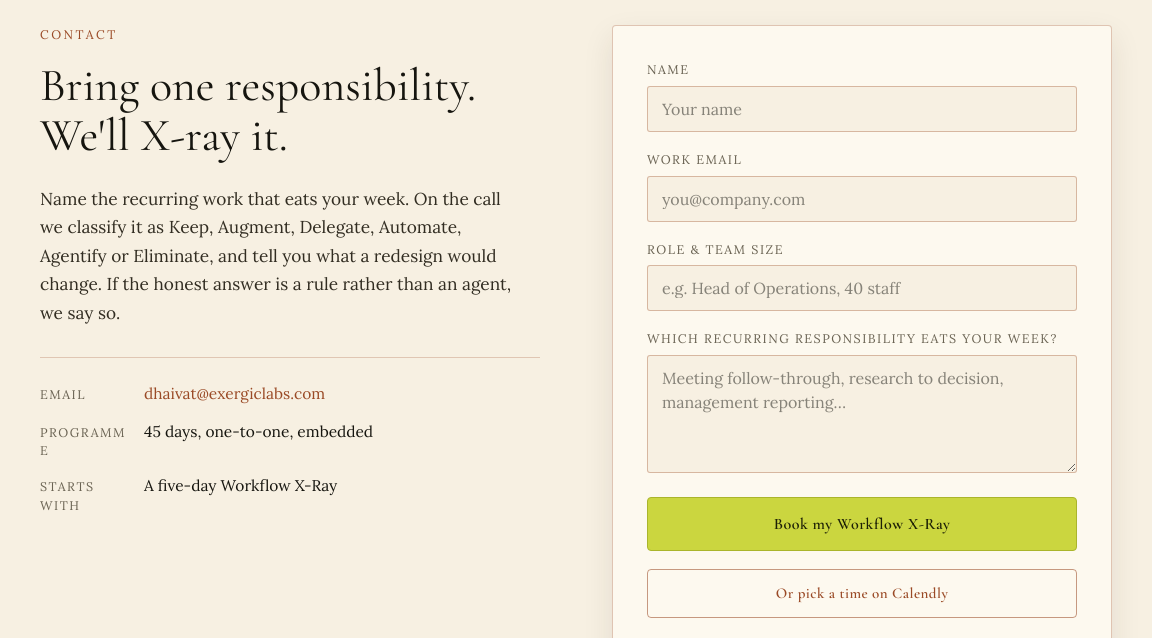
Test: ContactSection — sent state › shows confirmation note after submit
Type "Test User" into the field labelled "Name" at (862, 109), box [647, 86, 1077, 132]
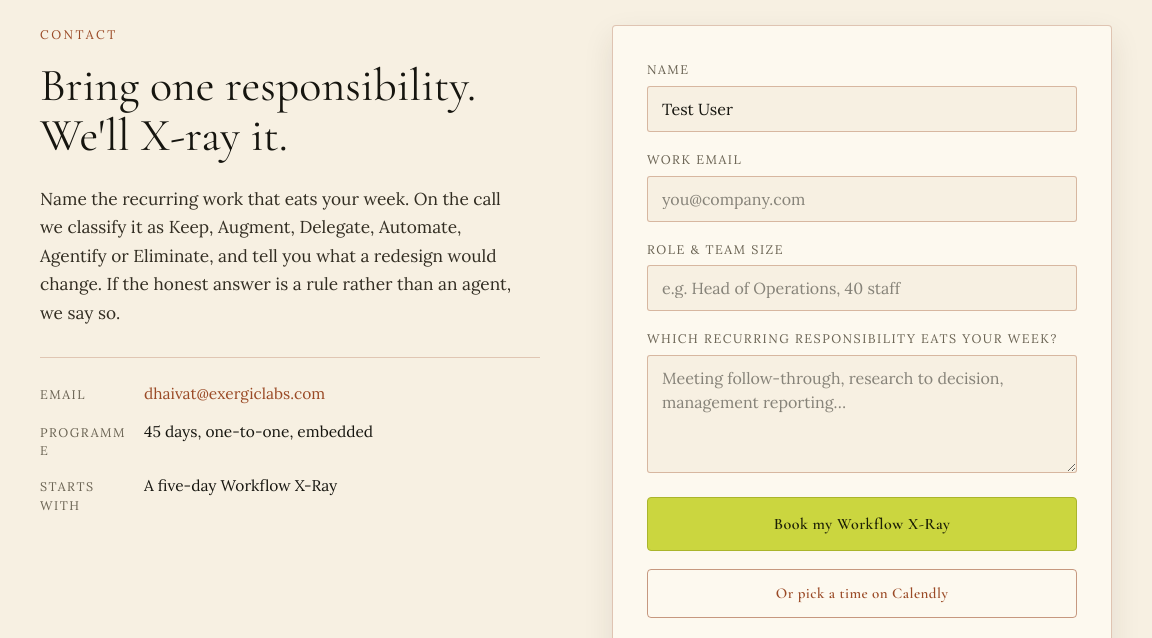
Type "test@test.com" into the field labelled "Work email" at (862, 198), box [647, 176, 1077, 222]
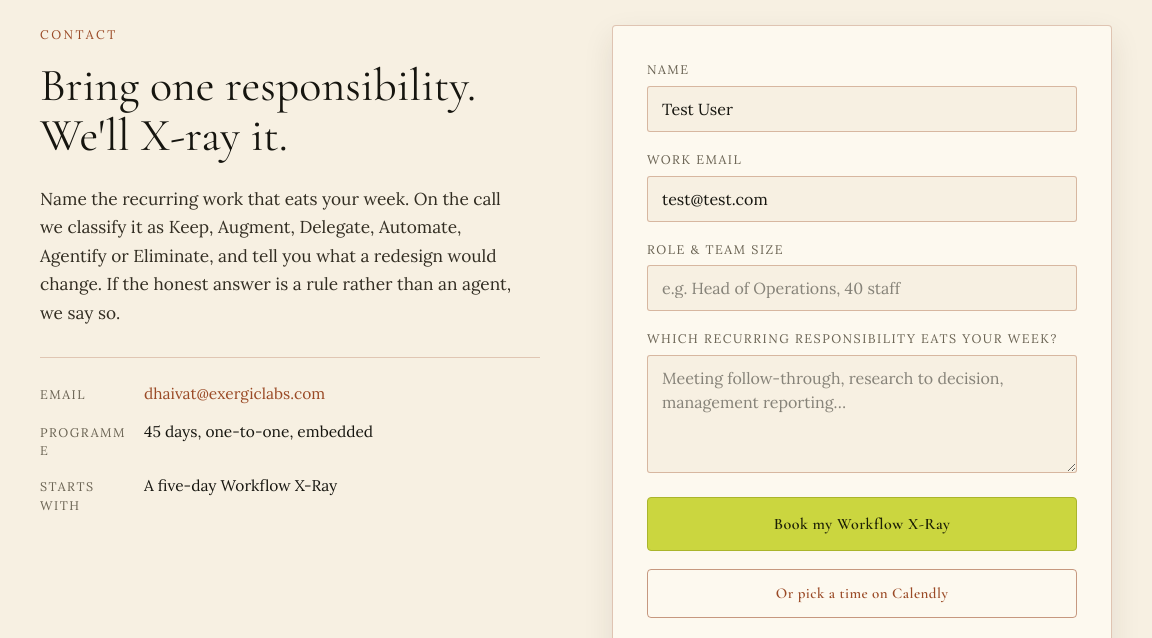
Type "Meetings" into the text box labelled "Which recurring responsibility eats your week?" at (862, 414), box [647, 355, 1077, 473]
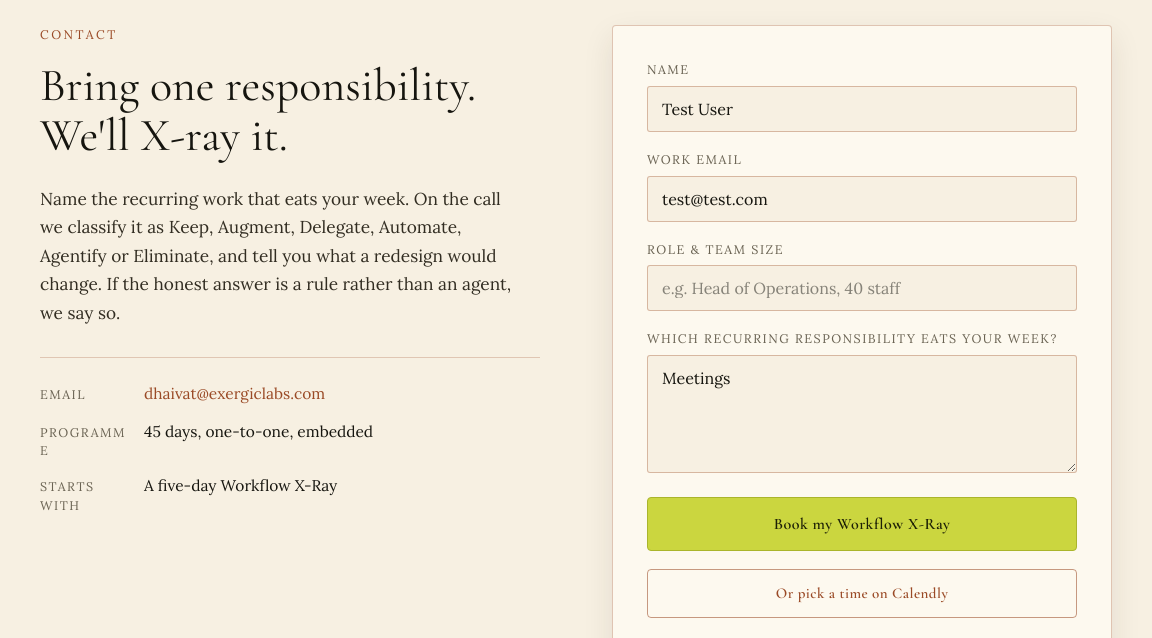
Click the button "Book my Workflow X-Ray" at (862, 524), box [647, 497, 1077, 551]
(page scrolled)
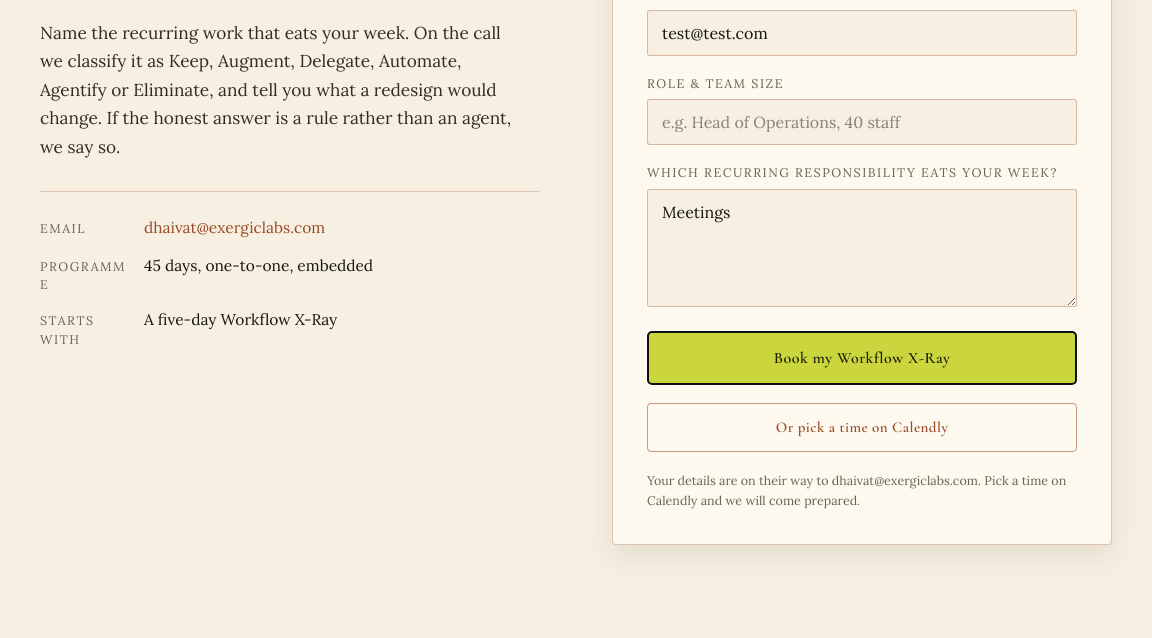
Now the text "on their way to dhaivat@exergiclabs.com" is shown, box [647, 472, 1066, 508]
